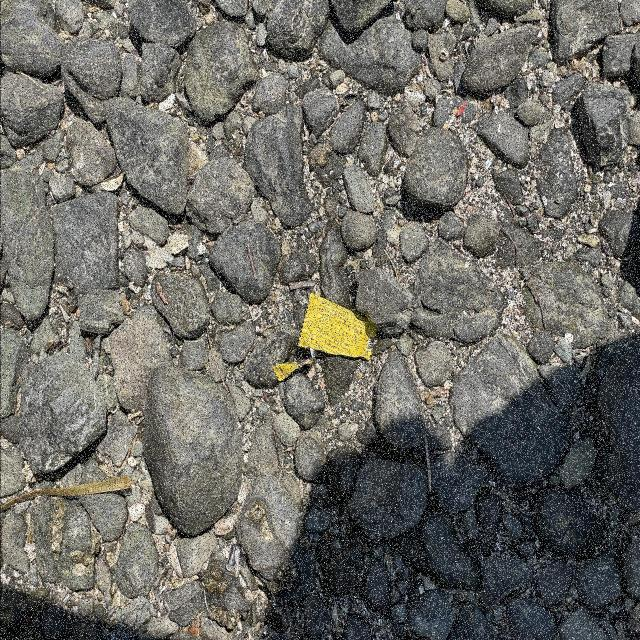plastic_waste: (297, 295, 375, 363)
